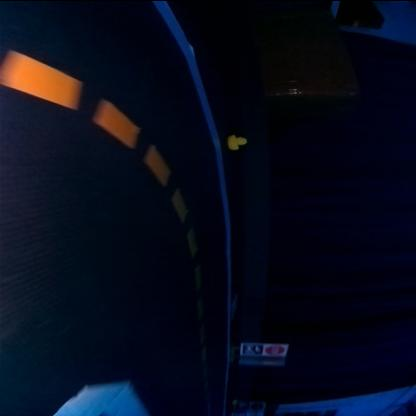Duckie: (229, 133, 249, 148)
QR code: (242, 342, 262, 353), (230, 294, 238, 318)
Stop sign: (267, 344, 286, 353), (251, 400, 266, 408)
